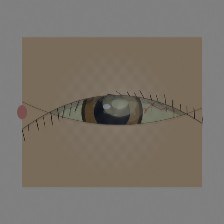corneal_ulcer: (92, 82, 147, 126)
